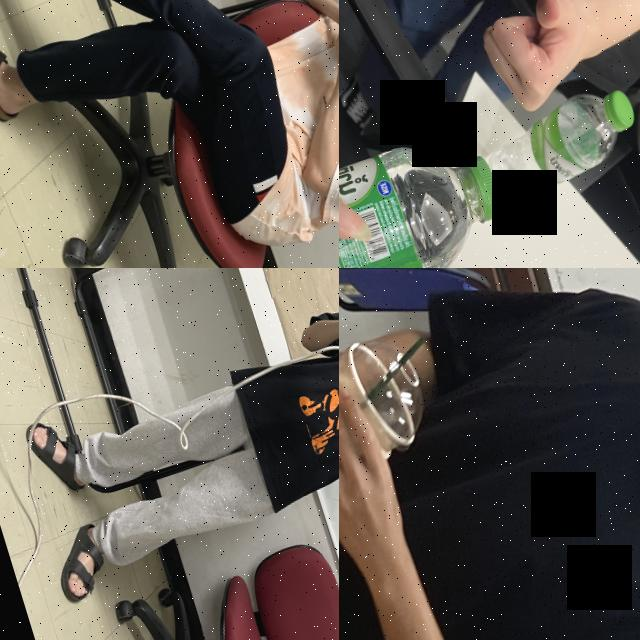bottle: (339, 119, 524, 268), (471, 77, 640, 217)
cup: (339, 327, 443, 515)
